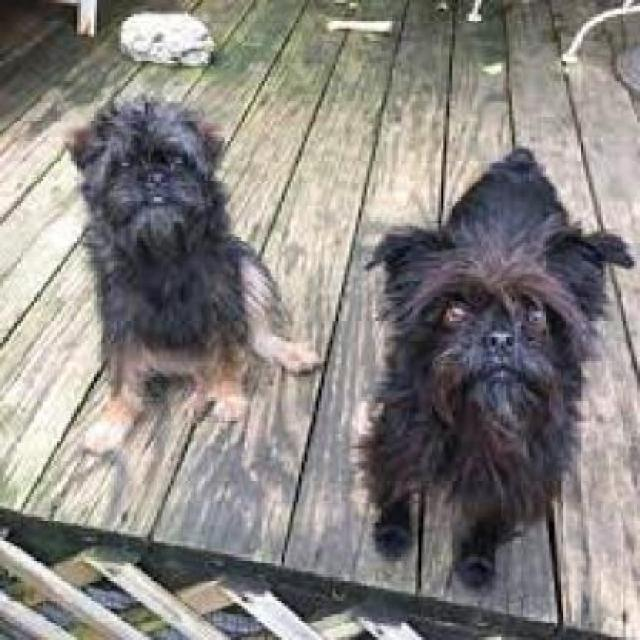animals: (335, 211, 628, 558), (53, 84, 290, 371)
